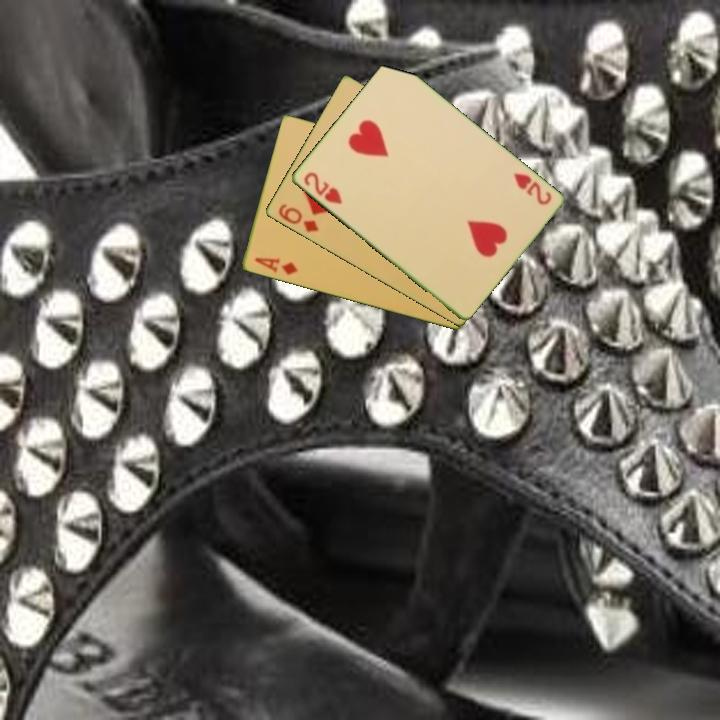2h: (300, 168, 345, 207), (510, 169, 554, 208)
6d: (274, 200, 321, 235)
Ad: (251, 254, 301, 278)
